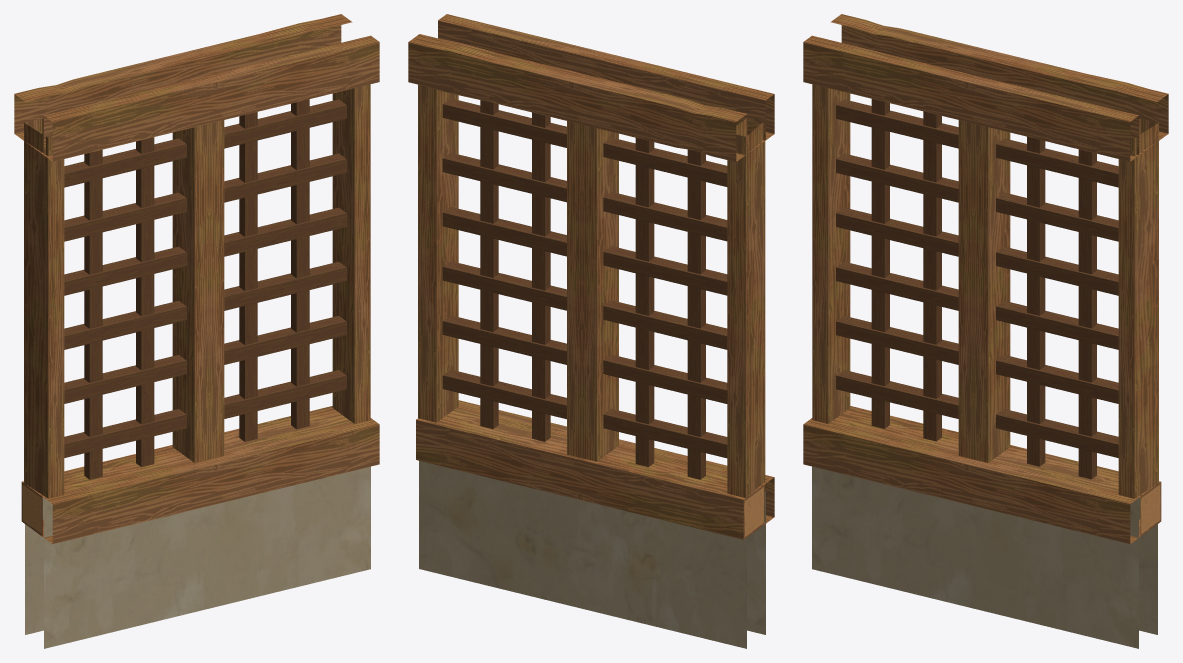
Rendered from Wall_Plaster_WoodGrid.gltf.
3 views of the same model, side by side, from view 1: azimuth 30°, elevation 25°; view 2: azimuth 150°, elevation 25°; view 3: azimuth 330°, elevation 25° (orthographic).
Visible parts, largest first — view 1: Wall_Plaster_WoodGrid; view 2: Wall_Plaster_WoodGrid; view 3: Wall_Plaster_WoodGrid.
Part boxes in pixels (box(x1,y1,x2,y2)): Wall_Plaster_WoodGrid: box(14, 14, 379, 648); Wall_Plaster_WoodGrid: box(408, 14, 774, 648); Wall_Plaster_WoodGrid: box(803, 14, 1168, 648).
Bounding box in the file's own units: 2 × 3.12 × 0.4065.
2 materials, 2 textured.
